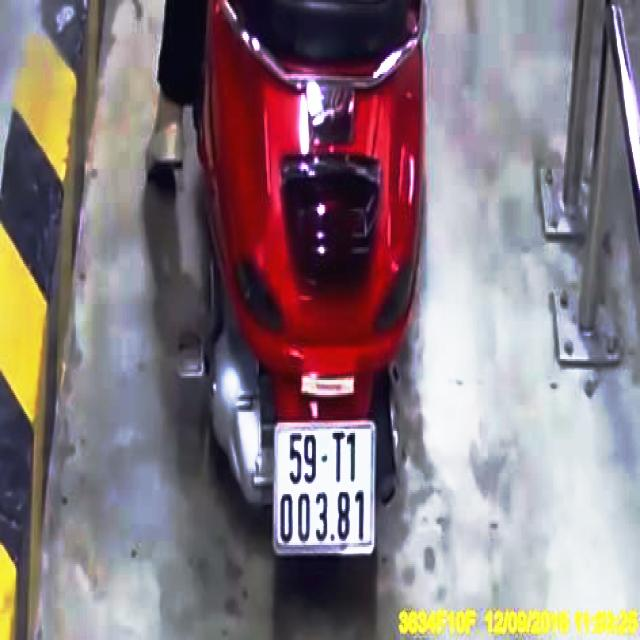license_plate: (276, 425, 375, 549)
